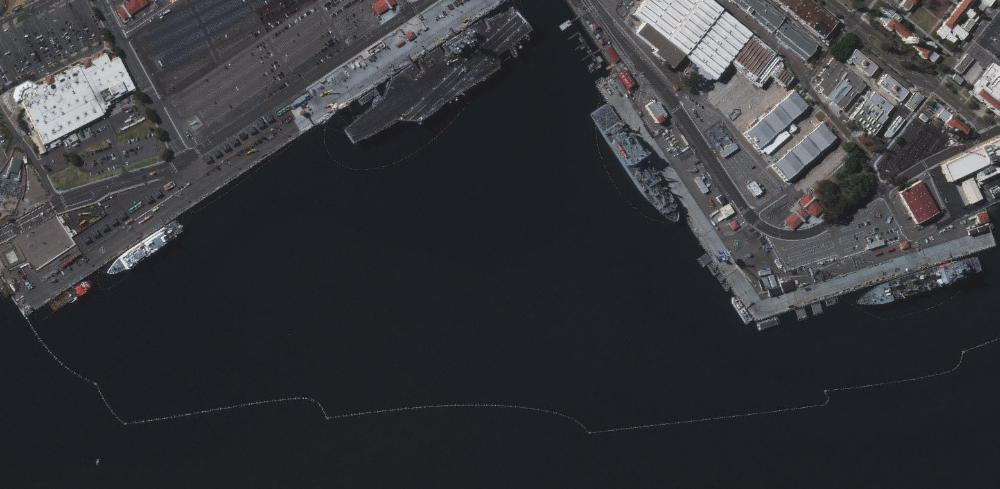tender: (589, 102, 686, 236), (850, 253, 988, 314)
